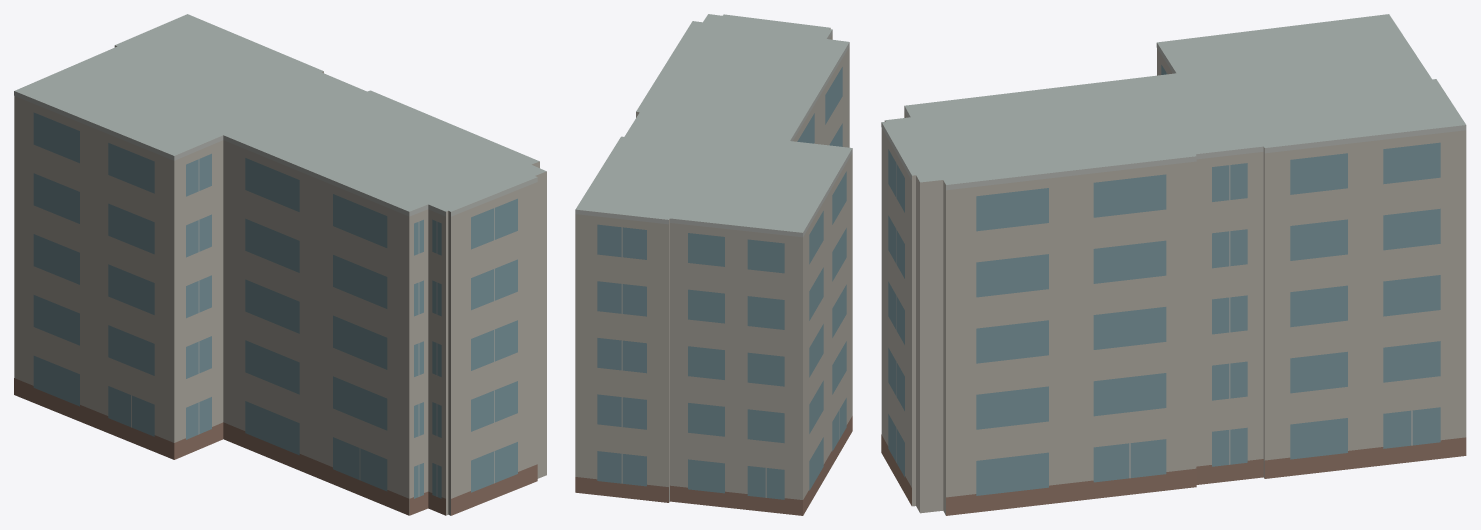
Rendered from survey-upis-32655020.glb.
3 views of the same model, side by side, from view 1: azimuth 30°, elevation 25°; view 2: azimuth 150°, elevation 25°; view 3: azimuth 270°, elevation 25° (orthographic). The views are drawn at different scales.
Parts seen in each view (by area): view 1: survey-upis-32655020.tmp; view 2: survey-upis-32655020.tmp; view 3: survey-upis-32655020.tmp.
Boxes of the visible parts, bbox=[...] form: survey-upis-32655020.tmp: bbox=[14, 14, 546, 515]; survey-upis-32655020.tmp: bbox=[575, 14, 852, 515]; survey-upis-32655020.tmp: bbox=[881, 14, 1466, 515].
Size of the model in its own units: 17.09 by 15.4 by 24.68.
